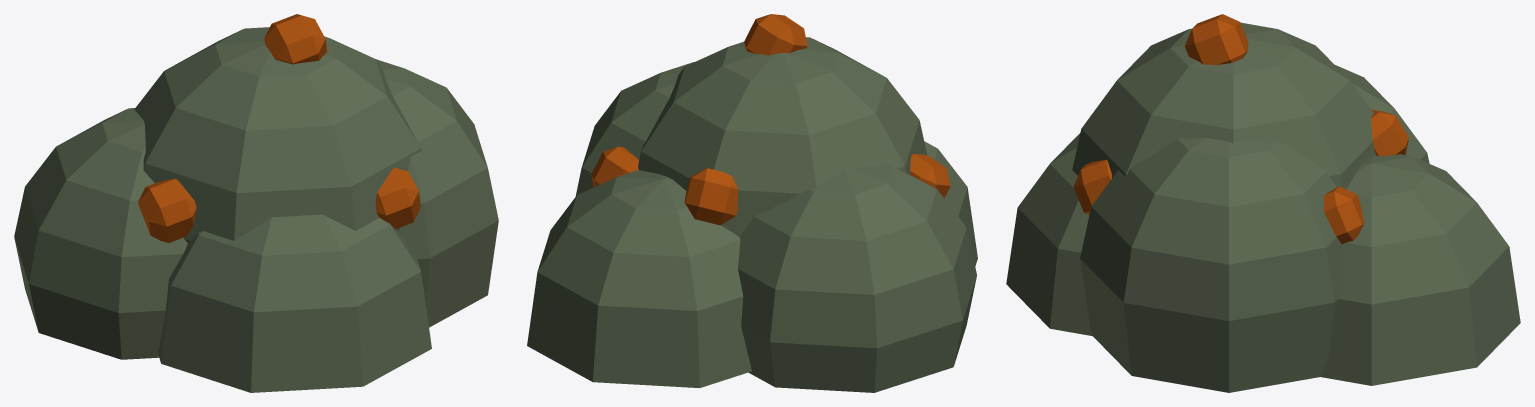
File: envBushTrigger.fbx
The picture shows the model from 3 angles, left to right: view 1: azimuth 30°, elevation 25°; view 2: azimuth 150°, elevation 25°; view 3: azimuth 270°, elevation 25°; orthographic projection. The views are drawn at different scales.
Parts seen in each view (by area): view 1: envBushTriggerBase, envBushBerry3, envBushBerry4, envBushBerry2; view 2: envBushTriggerBase, envBushBerry, envBushBerry4, envBushBerry1, envBushBerry3; view 3: envBushTriggerBase, envBushBerry4, envBushBerry1, envBushBerry, envBushBerry2.
Boxes of the visible parts, left/top/right/bottom form: envBushTriggerBase: left=14, top=27, right=498, bottom=392; envBushBerry3: left=138, top=178, right=196, bottom=242; envBushBerry4: left=264, top=14, right=327, bottom=64; envBushBerry2: left=375, top=168, right=420, bottom=229; envBushTriggerBase: left=527, top=37, right=977, bottom=392; envBushBerry: left=684, top=168, right=737, bottom=225; envBushBerry4: left=744, top=14, right=807, bottom=55; envBushBerry1: left=591, top=146, right=638, bottom=187; envBushBerry3: left=910, top=154, right=950, bottom=197; envBushTriggerBase: left=1006, top=22, right=1520, bottom=392; envBushBerry4: left=1185, top=14, right=1248, bottom=64; envBushBerry1: left=1323, top=186, right=1363, bottom=243; envBushBerry: left=1371, top=109, right=1408, bottom=155; envBushBerry2: left=1073, top=159, right=1111, bottom=214.
Bounding box in the file's own units: 3.01 × 1.95 × 3.12.
